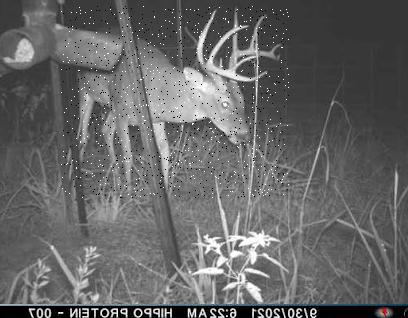Deer: (61, 6, 289, 198)
